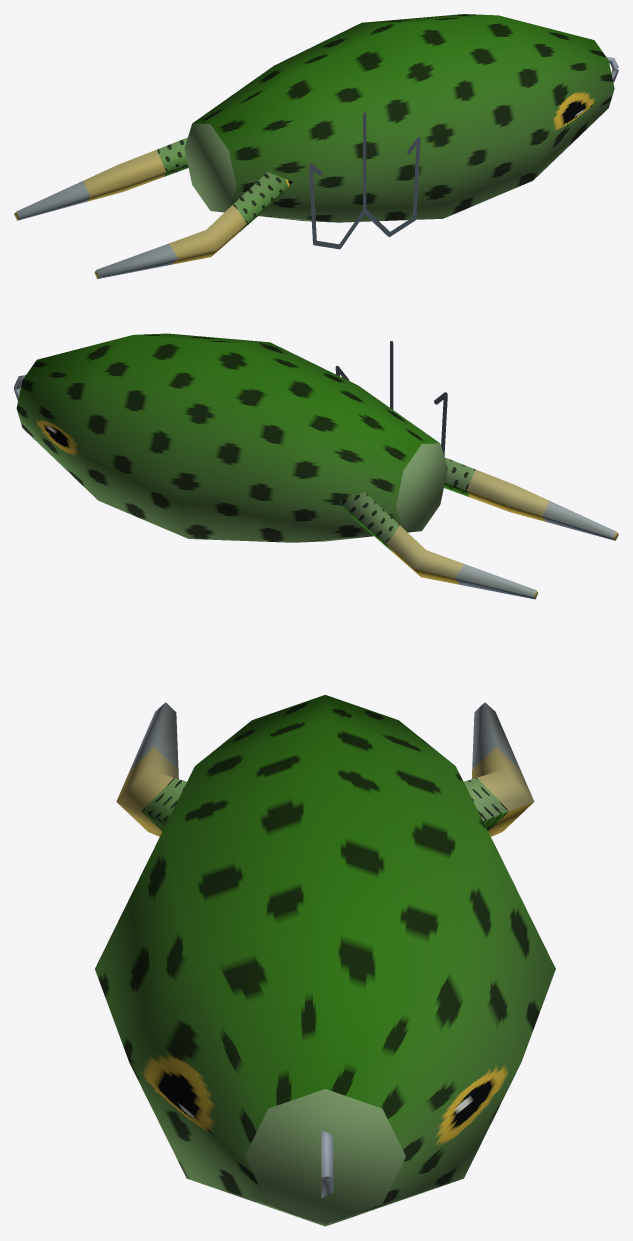
The model's file is frog.glb.
The picture shows the model from 3 angles, top to bottom: view 1: azimuth 30°, elevation 25°; view 2: azimuth 150°, elevation 25°; view 3: azimuth 270°, elevation 25°; orthographic projection. The views are drawn at different scales.
Visible parts, largest first — view 1: frog__frog_body_MESH, frog__Rubber_skirt_MESH, frog__Rubber_skirt_MESH.001, frog__Frog_double_hook_ALPHA; view 2: frog__frog_body_MESH, frog__Rubber_skirt_MESH.001, frog__Rubber_skirt_MESH, frog__Frog_double_hook_ALPHA; view 3: frog__frog_body_MESH, frog__Rubber_skirt_MESH.001, frog__Rubber_skirt_MESH, frog__Attachment_eye_MESH.009.
Part boxes in pixels (box(x1,y1,x2,y2)): frog__frog_body_MESH: box(184, 14, 614, 222); frog__Rubber_skirt_MESH: box(94, 172, 292, 279); frog__Rubber_skirt_MESH.001: box(14, 137, 188, 220); frog__Frog_double_hook_ALPHA: box(309, 112, 420, 249); frog__frog_body_MESH: box(16, 333, 447, 542); frog__Rubber_skirt_MESH.001: box(339, 492, 537, 599); frog__Rubber_skirt_MESH: box(444, 457, 618, 540); frog__Frog_double_hook_ALPHA: box(335, 341, 447, 456); frog__frog_body_MESH: box(95, 695, 555, 1226); frog__Rubber_skirt_MESH.001: box(464, 702, 534, 836); frog__Rubber_skirt_MESH: box(116, 702, 186, 836); frog__Attachment_eye_MESH.009: box(321, 1129, 333, 1198).
Size of the model in its own units: 0.0731 by 0.024 by 0.027.
3 materials, 2 textured.
